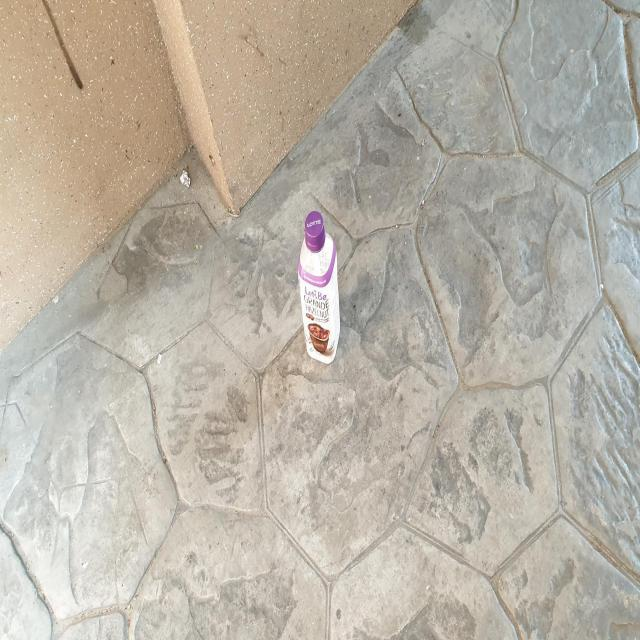plastic: (299, 210, 340, 362)
